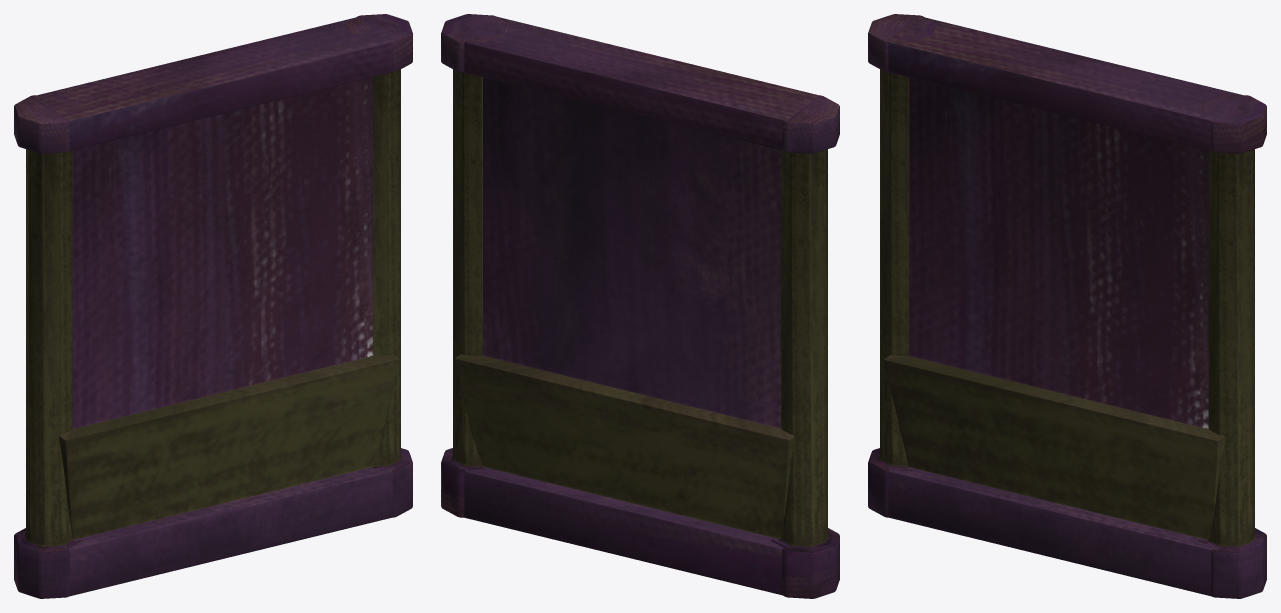
File: MANOR_WALL_2.obj
3 renders of one model, left to right at view 1: azimuth 30°, elevation 25°; view 2: azimuth 150°, elevation 25°; view 3: azimuth 330°, elevation 25°, orthographic.
Visible parts, largest first — view 1: MANOR_WALL_2.003; view 2: MANOR_WALL_2.003; view 3: MANOR_WALL_2.003.
Part boxes in pixels (x1=…): MANOR_WALL_2.003: x1=14, y1=14, x2=412, y2=598; MANOR_WALL_2.003: x1=441, y1=14, x2=839, y2=598; MANOR_WALL_2.003: x1=868, y1=14, x2=1266, y2=598.
Size of the model in its own units: 2.57 by 3 by 0.4138.
